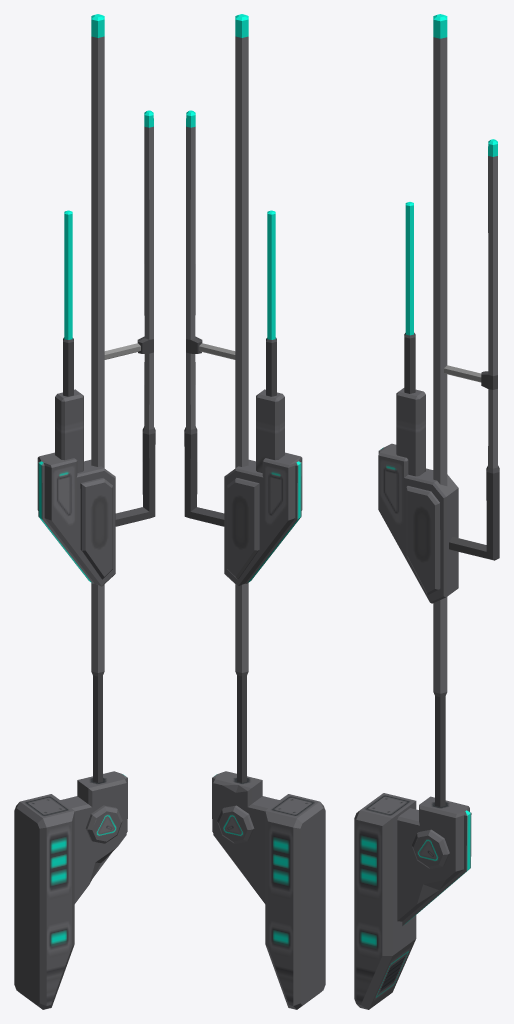
File: SM_Prop_Antenna_01.fbx
The picture shows the model from 3 angles, left to right: view 1: azimuth 30°, elevation 25°; view 2: azimuth 150°, elevation 25°; view 3: azimuth 330°, elevation 25°; orthographic projection. The views are drawn at different scales.
Visible parts, largest first — view 1: SM_Prop_Antenna_01; view 2: SM_Prop_Antenna_01; view 3: SM_Prop_Antenna_01.
Boxes of the visible parts, box(x1,y1,x2,y2) form: SM_Prop_Antenna_01: box(14, 14, 155, 1009); SM_Prop_Antenna_01: box(184, 14, 325, 1009); SM_Prop_Antenna_01: box(354, 14, 499, 1009).
Size of the model in its own units: 62.65 by 452 by 25.53.
